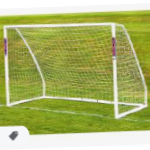goals: (2, 22, 148, 121)
